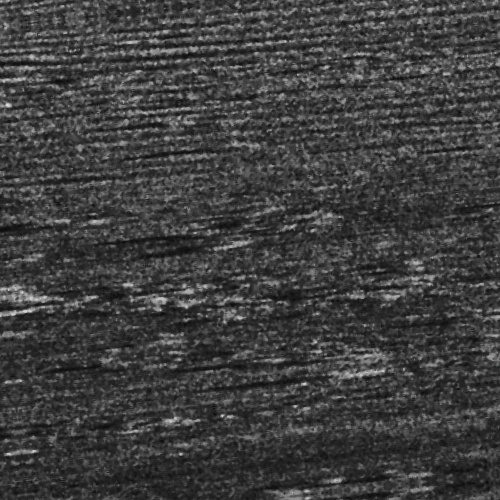object: (177, 354, 312, 365), (259, 358, 394, 369), (296, 376, 411, 385), (0, 47, 44, 54), (181, 222, 234, 227), (213, 139, 266, 144), (34, 196, 87, 201), (365, 485, 406, 490), (175, 109, 206, 114)
shadow: (80, 354, 244, 365), (198, 376, 353, 385), (232, 358, 326, 369), (230, 485, 385, 490), (109, 139, 239, 144), (108, 222, 207, 227), (123, 109, 190, 114), (0, 196, 61, 201), (0, 47, 17, 54)
